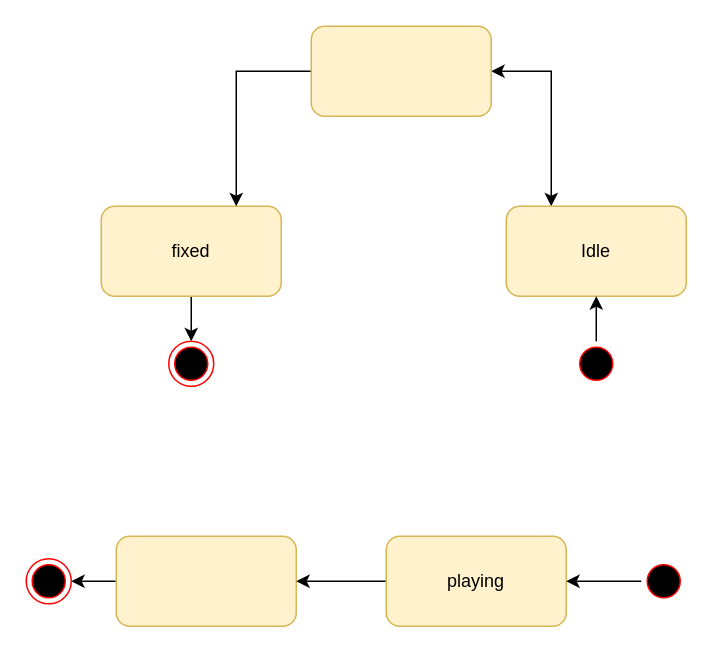
Image size: 713x653. Some labels were removed from this diagram. Each missing label, with the centre of its shape:
"ended" belongs at (205,580).
"selected" belongs at (400,70).
